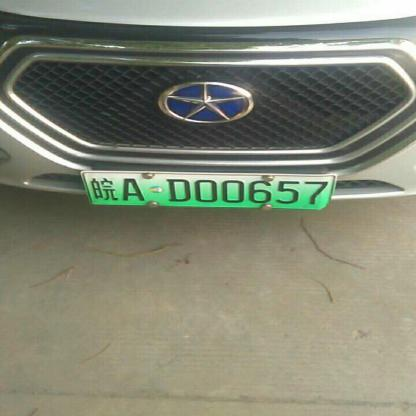lp: (84, 172, 334, 206)
